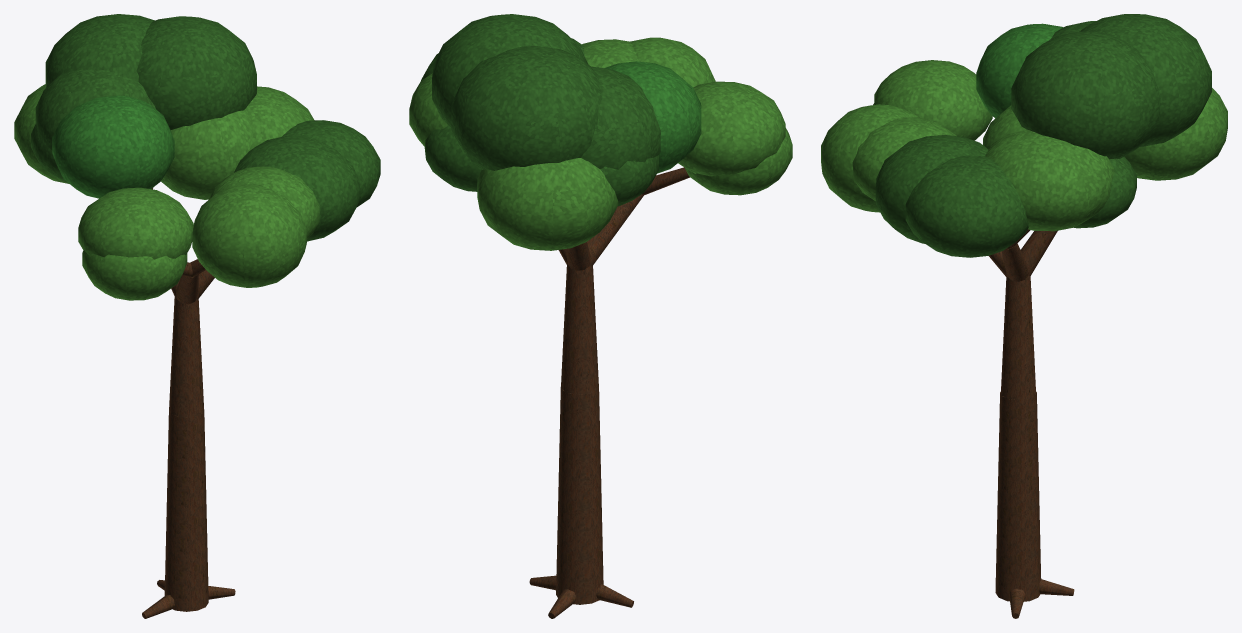
File: island_oak.glb
The picture shows the model from 3 angles, left to right: view 1: azimuth 30°, elevation 25°; view 2: azimuth 150°, elevation 25°; view 3: azimuth 270°, elevation 25°; orthographic projection. The views are drawn at different scales.
Visible parts, largest first — view 1: tree; view 2: tree; view 3: tree.
Boxes of the visible parts, x1,y1,x2,y2 form: tree: [14, 14, 380, 618]; tree: [409, 14, 792, 618]; tree: [821, 14, 1227, 618].
Bounding box in the file's own units: 6.91 × 11.87 × 7.65.
4 materials, 4 textured.
